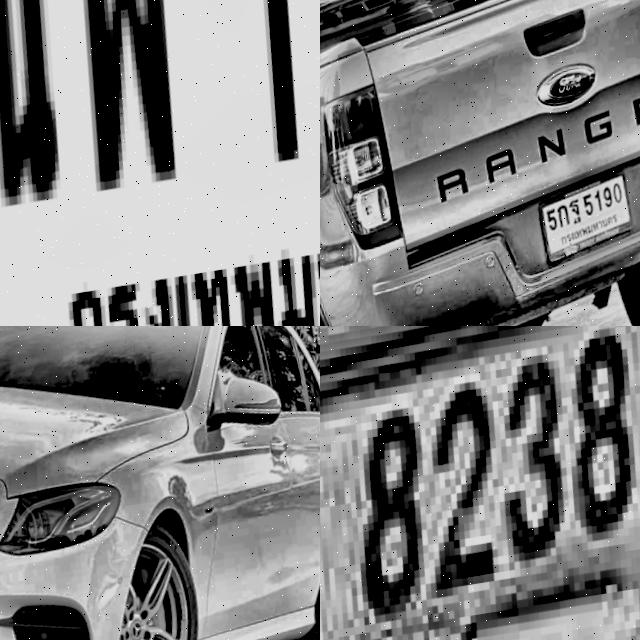license-plate: (0, 0, 320, 326), (320, 326, 640, 640), (536, 167, 640, 268)
